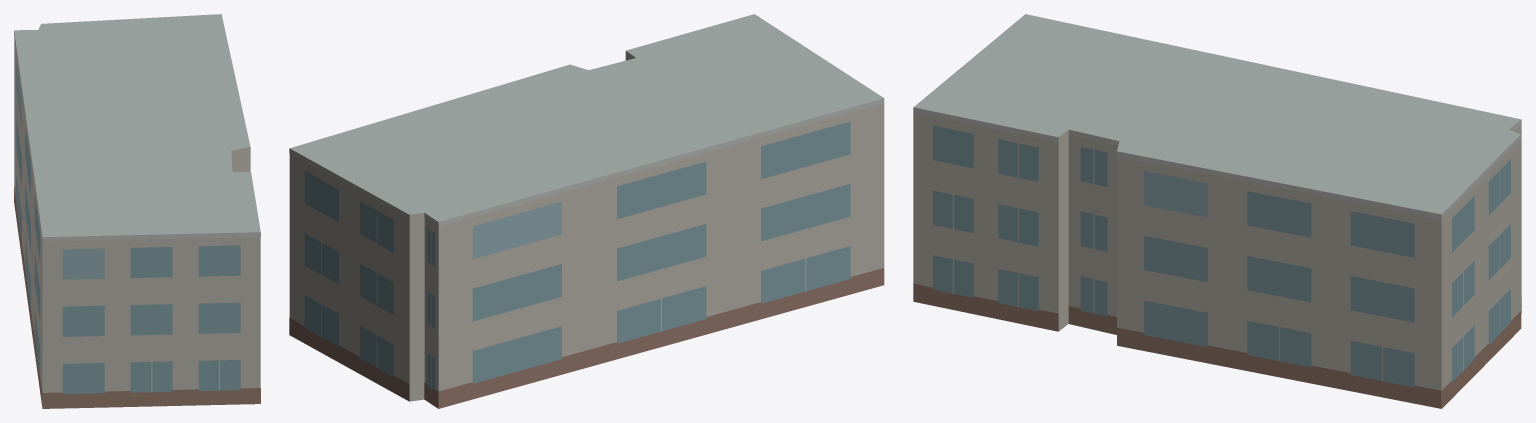
File: survey-upis-32771282.glb
3 renders of one model, left to right at view 1: azimuth 30°, elevation 25°; view 2: azimuth 150°, elevation 25°; view 3: azimuth 270°, elevation 25°, orthographic. The views are drawn at different scales.
Visible parts, largest first — view 1: survey-upis-32771282.tmp; view 2: survey-upis-32771282.tmp; view 3: survey-upis-32771282.tmp.
Boxes of the visible parts, <box> form: survey-upis-32771282.tmp: <box>14,14,260,408</box>; survey-upis-32771282.tmp: <box>289,14,884,408</box>; survey-upis-32771282.tmp: <box>913,14,1521,408</box>.
Size of the model in its own units: 20.25 by 9.15 by 25.95.
